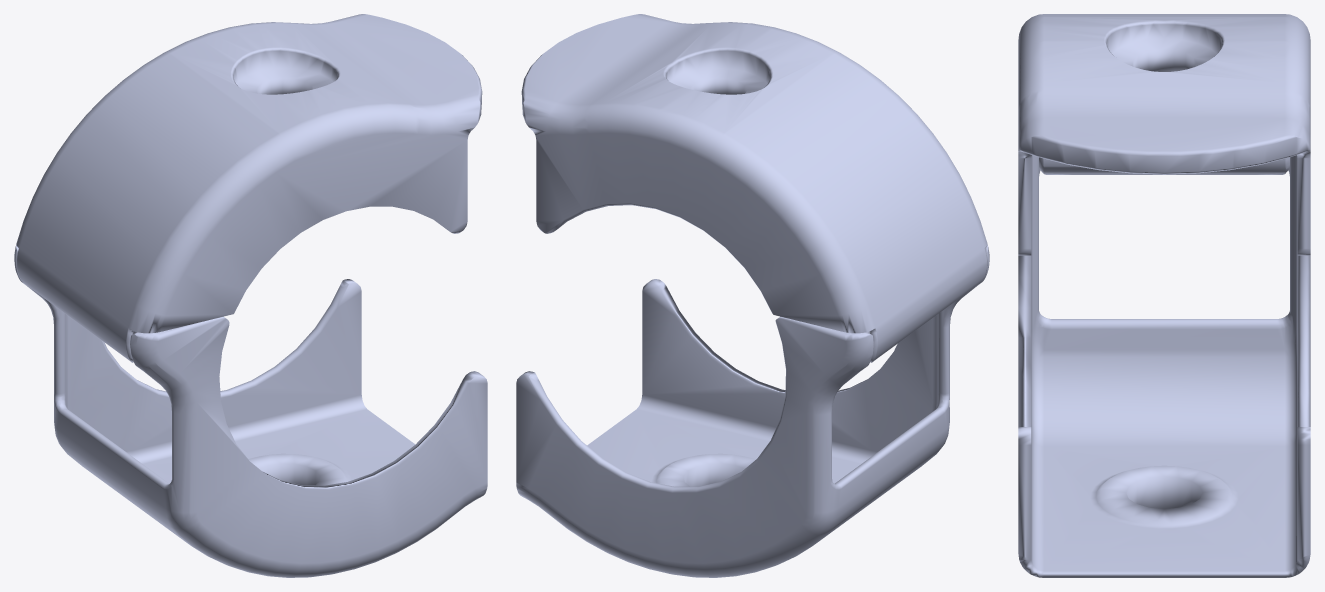
The model's file is left_thumb_MCP_VL_visual_cad1ee.glb.
The picture shows the model from 3 angles, left to right: view 1: azimuth 30°, elevation 25°; view 2: azimuth 150°, elevation 25°; view 3: azimuth 270°, elevation 25°; orthographic projection. The views are drawn at different scales.
Visible parts, largest first — view 1: left_thumb_MCP_VL_visual_0; view 2: left_thumb_MCP_VL_visual_0; view 3: left_thumb_MCP_VL_visual_0.
Boxes of the visible parts, x1,y1,x2,y2 form: left_thumb_MCP_VL_visual_0: (14, 14, 487, 577); left_thumb_MCP_VL_visual_0: (516, 14, 989, 577); left_thumb_MCP_VL_visual_0: (1018, 14, 1310, 577).
Bounding box in the file's own units: 0.0192 × 0.022 × 0.0114.
